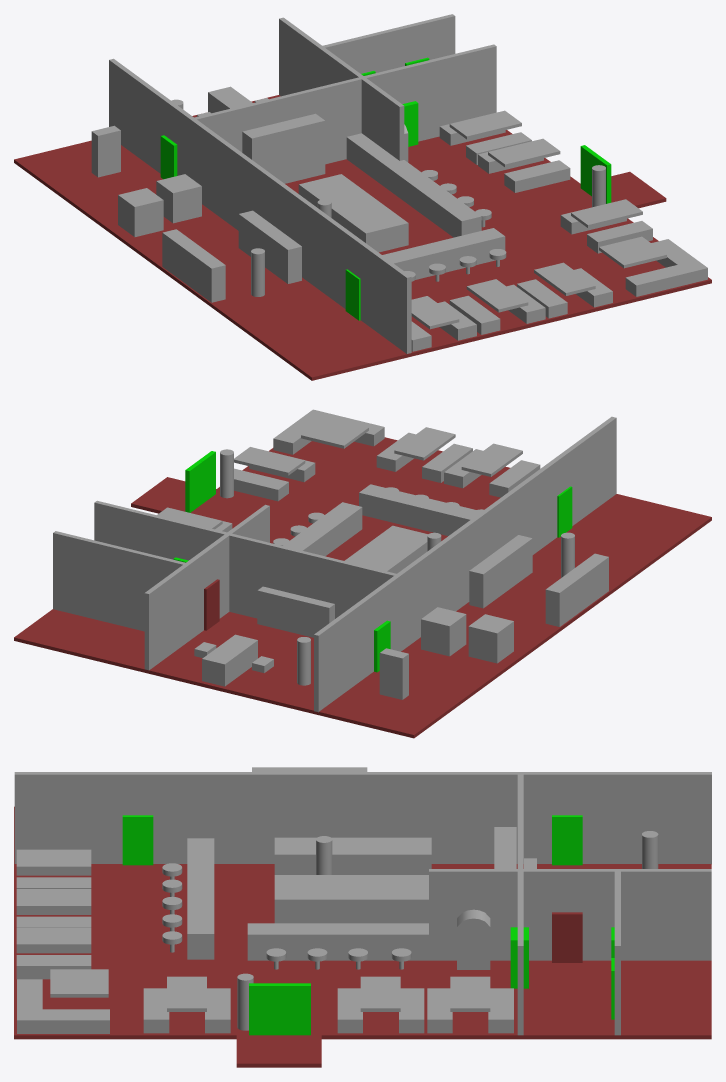
Rendered from Diner_Aug7.fbx.
The picture shows the model from 3 angles, top to bottom: view 1: azimuth 30°, elevation 25°; view 2: azimuth 150°, elevation 25°; view 3: azimuth 270°, elevation 25°; orthographic projection. The views are drawn at different scales.
Visible parts, largest first — view 1: polySurface27; view 2: polySurface27; view 3: polySurface27.
Boxes of the visible parts, bbox=[...] form: polySurface27: bbox=[14, 14, 711, 380]; polySurface27: bbox=[14, 409, 711, 738]; polySurface27: bbox=[14, 767, 711, 1067].
Size of the model in its own units: 74.05 by 12.53 by 85.05.
